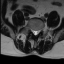CCS_normal: (34, 27, 36, 37)
LFS_normal: (38, 27, 40, 34)
LLS_normal: (36, 27, 38, 37)
RFS_normal: (30, 26, 32, 34)
RLS_normal: (32, 27, 34, 36)
